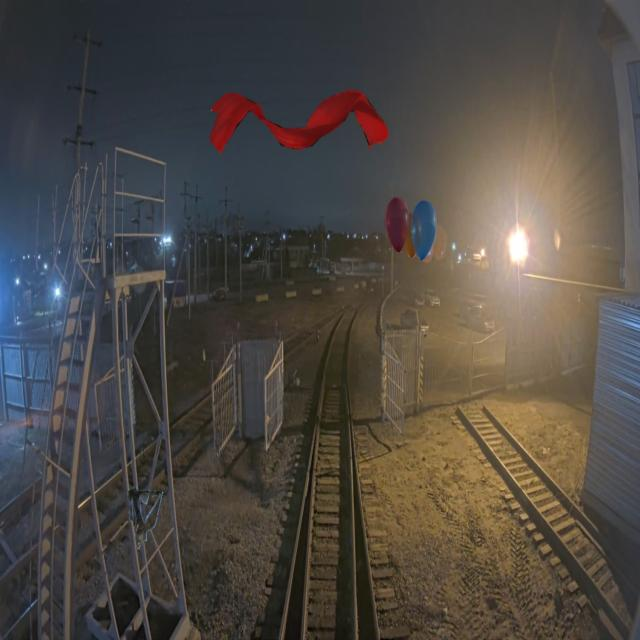balloon: (385, 196, 437, 260)
floating object: (209, 90, 389, 154), (126, 486, 163, 550)
